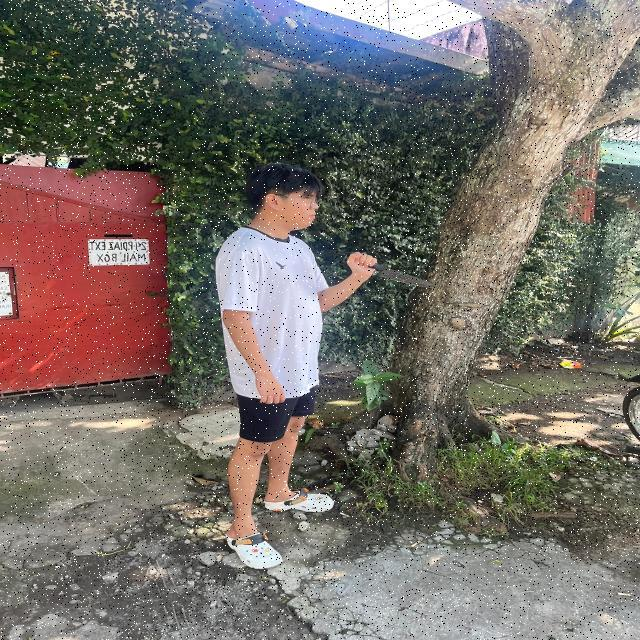knife: (351, 258, 432, 288)
non-violence: (213, 164, 434, 568)
